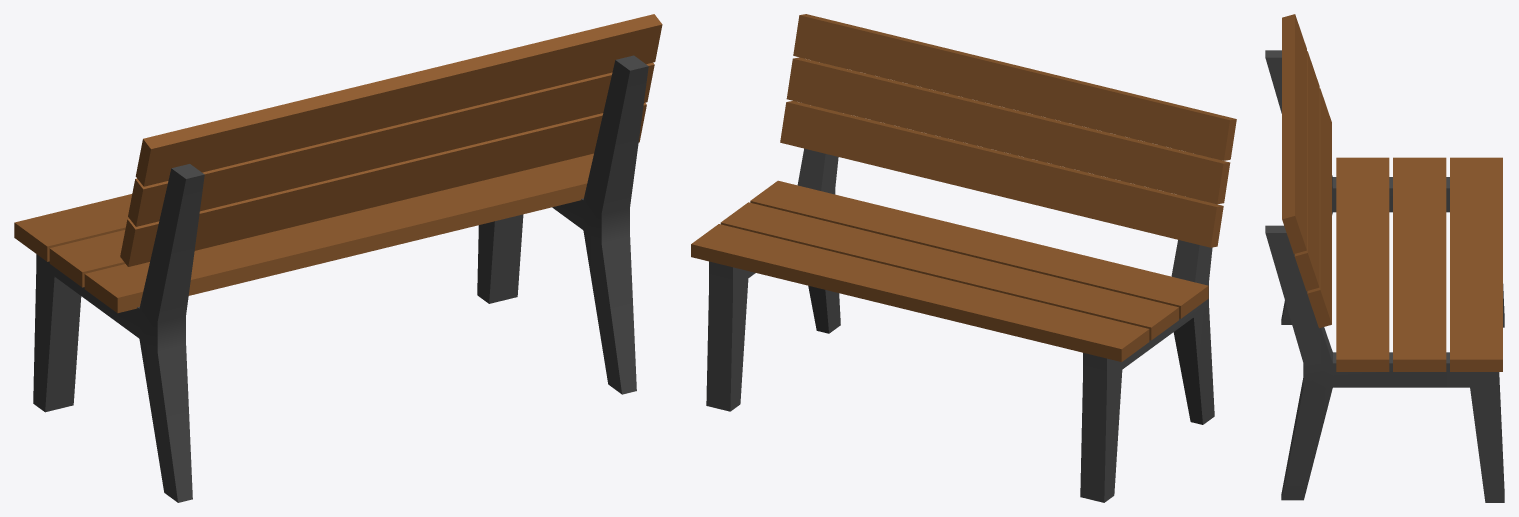
The model's file is BENCH.fbx.
3 renders of one model, left to right at view 1: azimuth 30°, elevation 25°; view 2: azimuth 150°, elevation 25°; view 3: azimuth 270°, elevation 25°, orthographic. The views are drawn at different scales.
Parts seen in each view (by area): view 1: bench; view 2: bench; view 3: bench.
Part boxes in pixels (x1,y1,x2,y2): bench: (14,14,662,502); bench: (691,14,1236,502); bench: (1265,14,1504,502).
Bounding box in the file's own units: 176 × 120 × 88.05.
